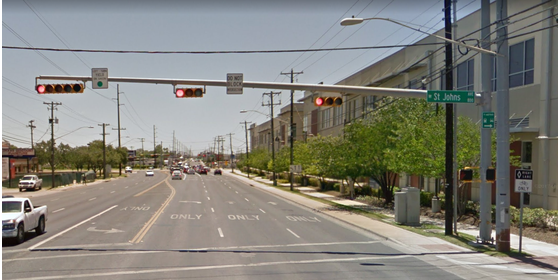do not block intersection sign: (225, 71, 245, 96)
green bus sign: (481, 110, 496, 132)
left turn yield on green sign: (89, 65, 110, 91)
street name sign: (421, 83, 477, 106)
